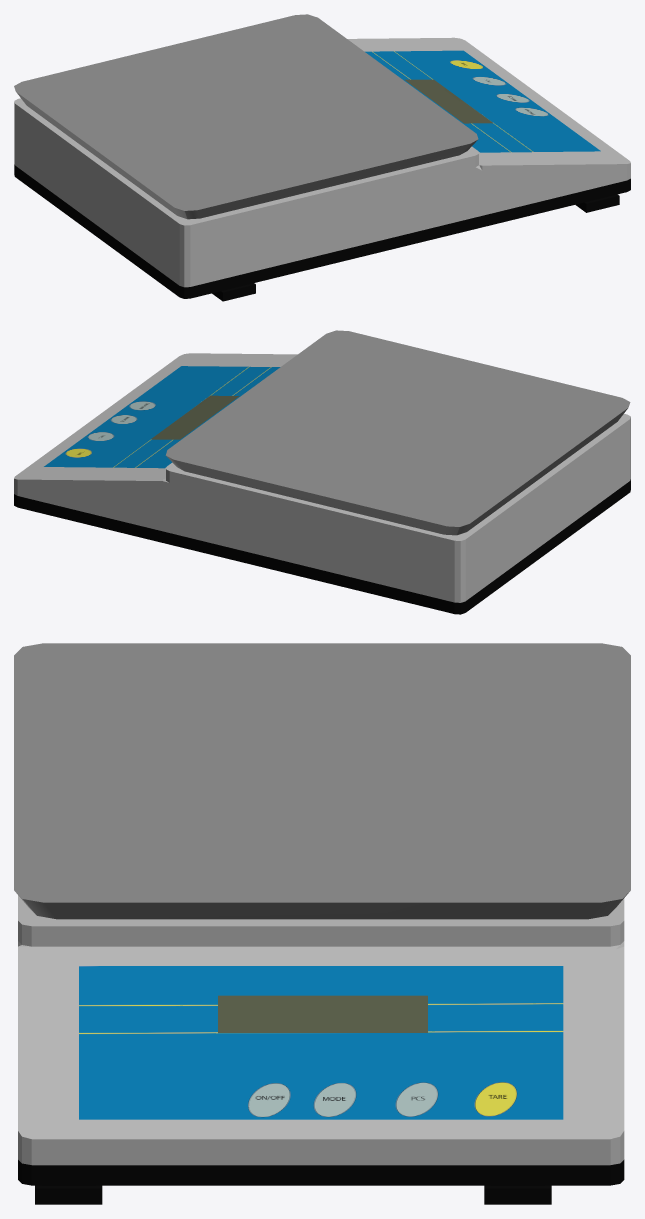
File: Digital_Weighing_Machine.fbx
The picture shows the model from 3 angles, top to bottom: view 1: azimuth 30°, elevation 25°; view 2: azimuth 150°, elevation 25°; view 3: azimuth 270°, elevation 25°; orthographic projection. The views are drawn at different scales.
Parts seen in each view (by area): view 1: Steel, polySurface1, polySurface3, screen1, pCube1, pCube4; view 2: Steel, polySurface1, polySurface3, screen1; view 3: Steel, polySurface1, polySurface3, screen1, pCube2, pCube1.
Part boxes in pixels (box(x1,y1,x2,y2)): Steel: box(14, 14, 478, 219); polySurface1: box(14, 37, 630, 298); polySurface3: box(365, 50, 600, 152); screen1: box(405, 79, 492, 123); pCube1: box(575, 194, 619, 212); pCube4: box(212, 283, 255, 301); Steel: box(165, 330, 630, 535); polySurface1: box(14, 353, 630, 614); polySurface3: box(44, 366, 280, 468); screen1: box(151, 395, 239, 439); Steel: box(14, 643, 630, 919); polySurface1: box(18, 895, 624, 1185); polySurface3: box(79, 966, 563, 1119); screen1: box(218, 995, 427, 1032); pCube2: box(484, 1185, 551, 1204); pCube1: box(35, 1185, 102, 1204).
Size of the model in its own units: 14.64 by 3.2 by 9.84.
5 materials, 1 textured.
